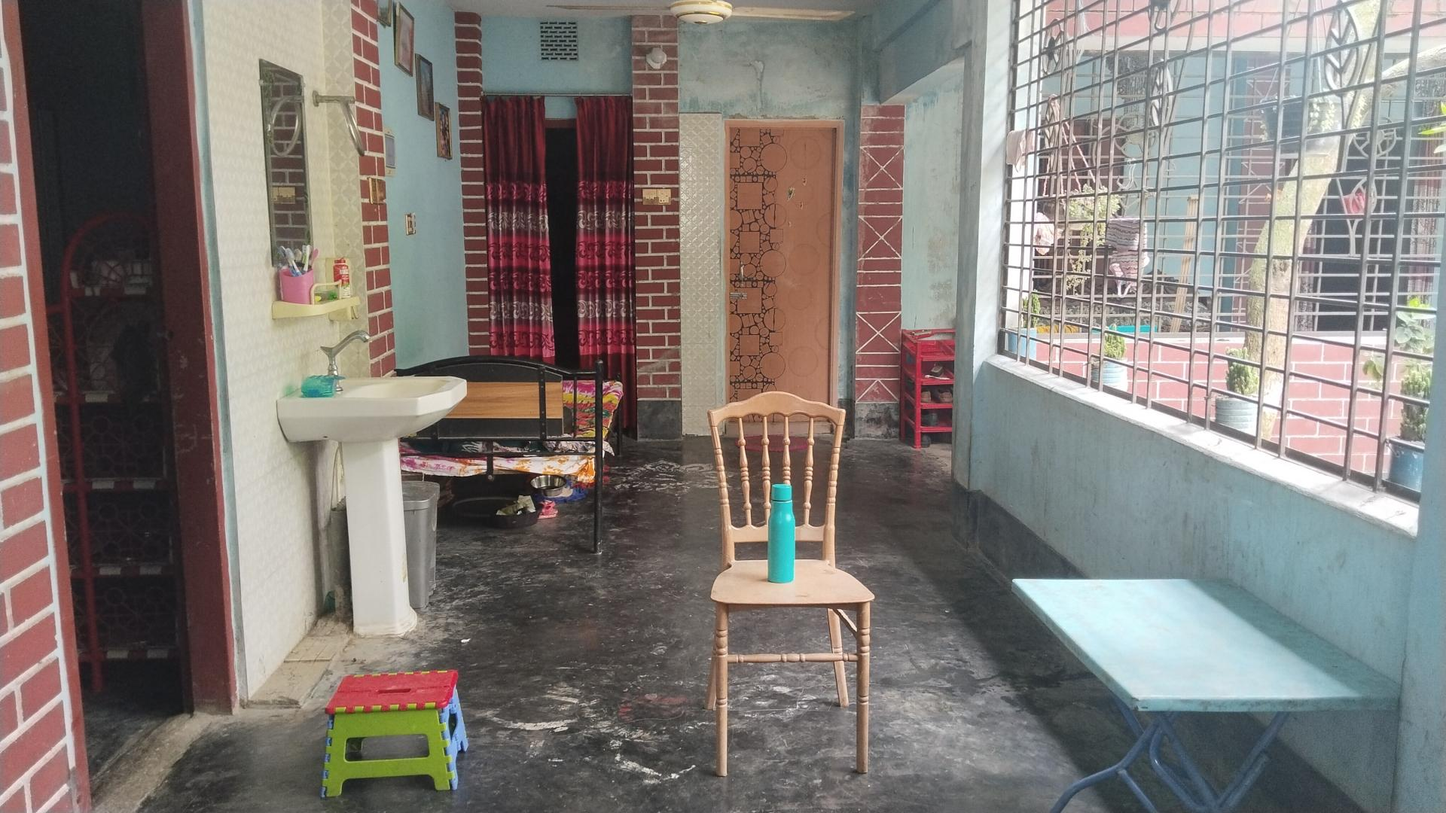Bottle: (769, 480, 799, 583)
Chair: (707, 392, 874, 776)
Door: (726, 125, 830, 425)
Stool: (323, 667, 467, 783)
Table: (1006, 571, 1404, 813)
